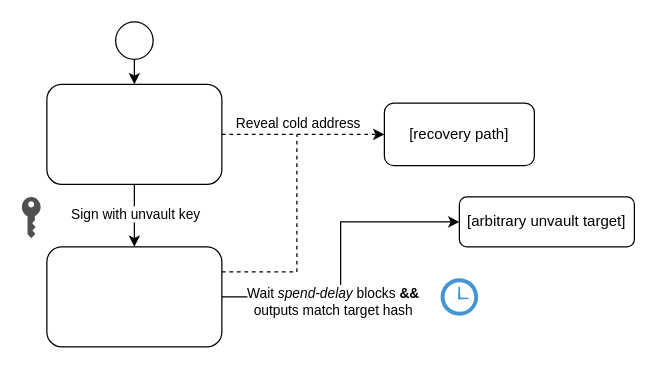
This 656x369 diagram has some shape labels left out. The centre of each missing label's shape, as x and y in pixels:
OP_UNVAULT < cold-addr-hash > < spend-delay > < target-outputs-hash >: (x=134, y=296)
OP_VAULT < cold-addr-hash > < spend-delay > < unvault-pk >: (x=134, y=133)
